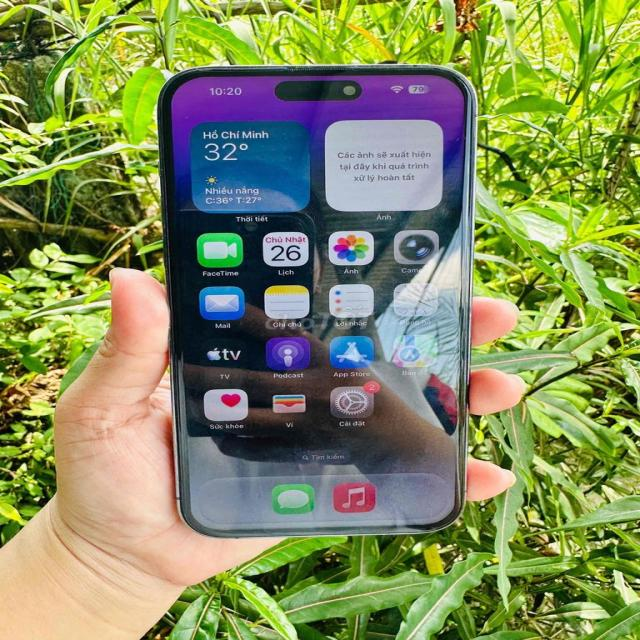gen_14: (128, 55, 495, 552)
